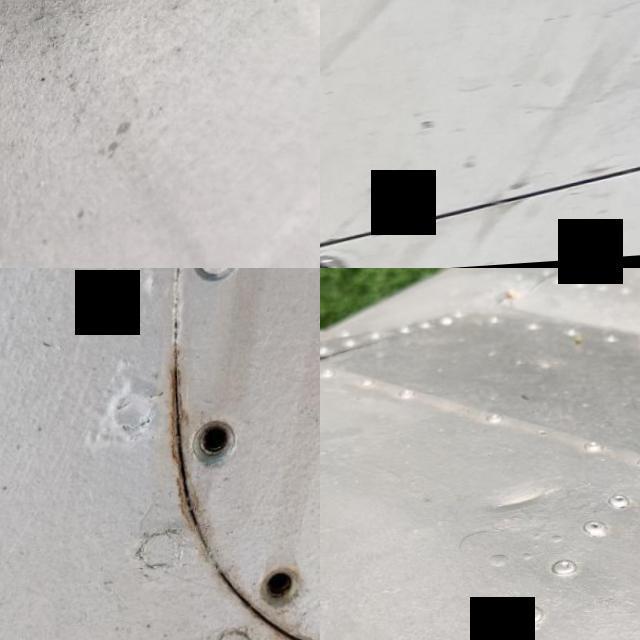Dent: (469, 458, 577, 555)
Missing_Fastener: (170, 407, 261, 497), (247, 549, 320, 634)
